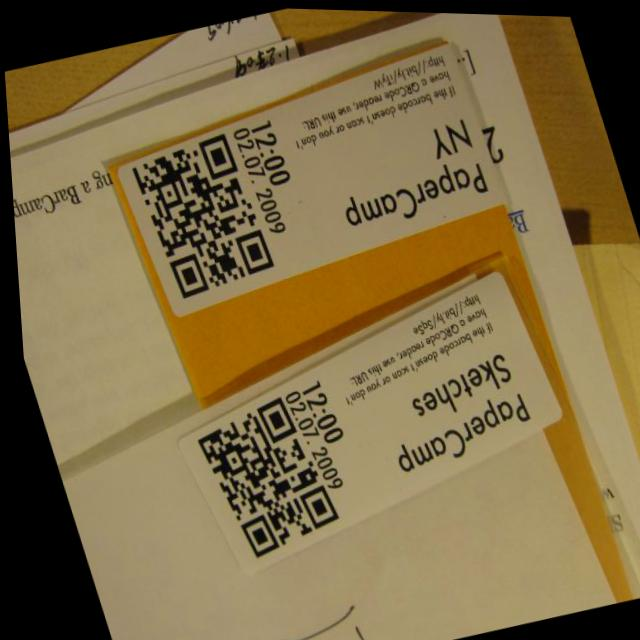qrcode: (183, 388, 340, 563), (124, 127, 276, 303)
